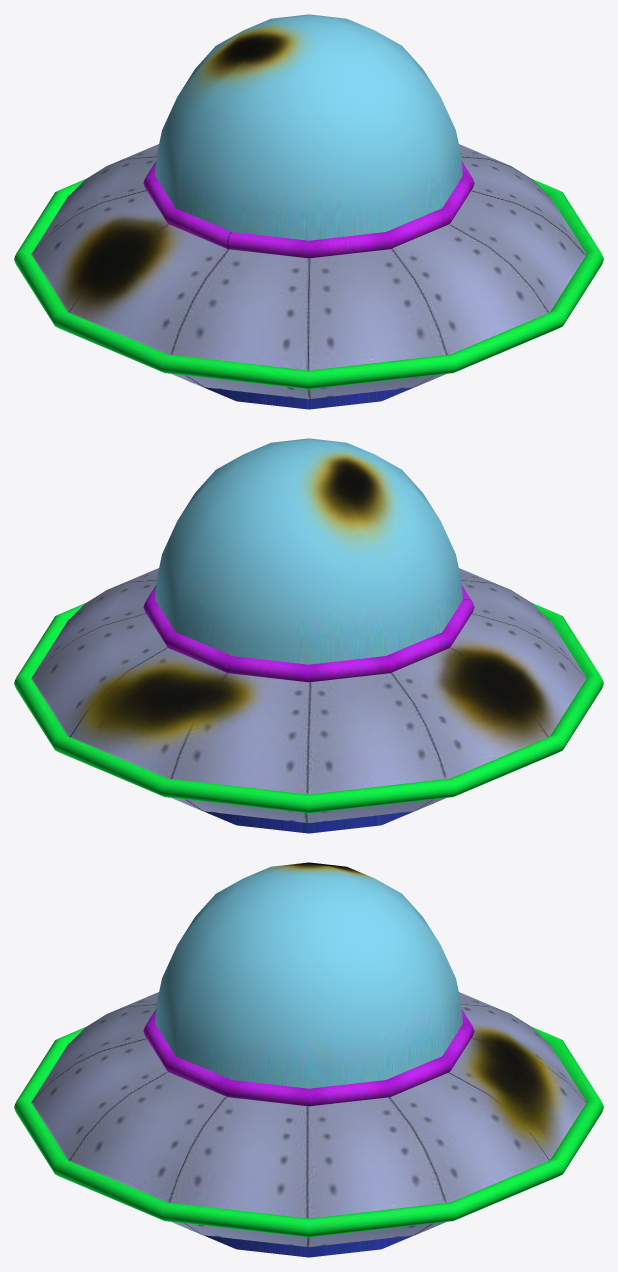
Rendered from CORREGIDA FINAL FINAL UV LA ULTIMA NUMBER ONE.obj.
The picture shows the model from 3 angles, top to bottom: view 1: azimuth 30°, elevation 25°; view 2: azimuth 150°, elevation 25°; view 3: azimuth 270°, elevation 25°; orthographic projection.
Visible parts, largest first — view 1: Capsule009; view 2: Capsule009; view 3: Capsule009.
Boxes of the visible parts, x1=… form: Capsule009: x1=14, y1=14, x2=603, y2=409; Capsule009: x1=14, y1=438, x2=603, y2=833; Capsule009: x1=14, y1=862, x2=603, y2=1257.
Size of the model in its own units: 37.2 by 22.6 by 37.2.
